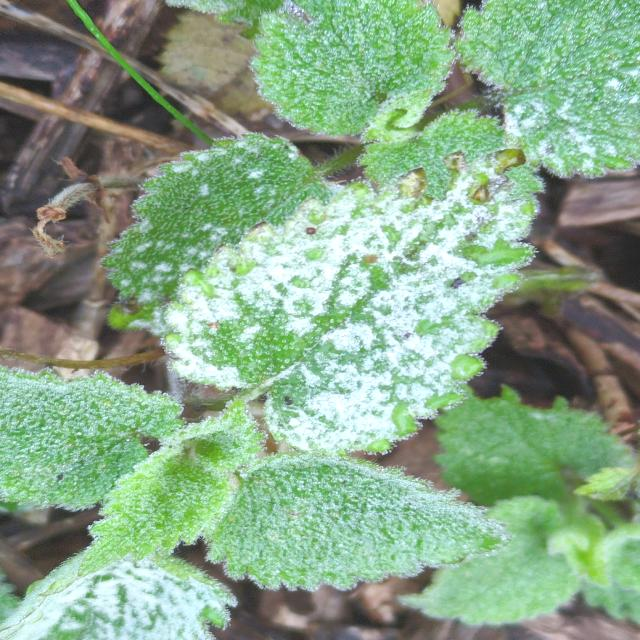powdery_mildew: (166, 155, 536, 451)
